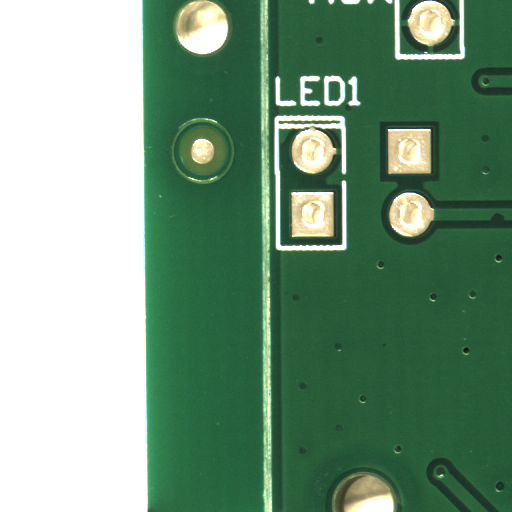Mouse_bite: (497, 218, 512, 228)
